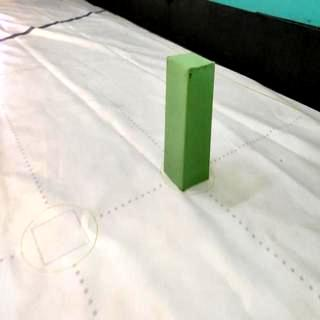greenbox: (162, 50, 216, 194)
